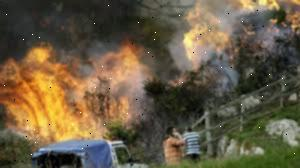fire: (0, 40, 149, 150), (164, 0, 300, 92)
